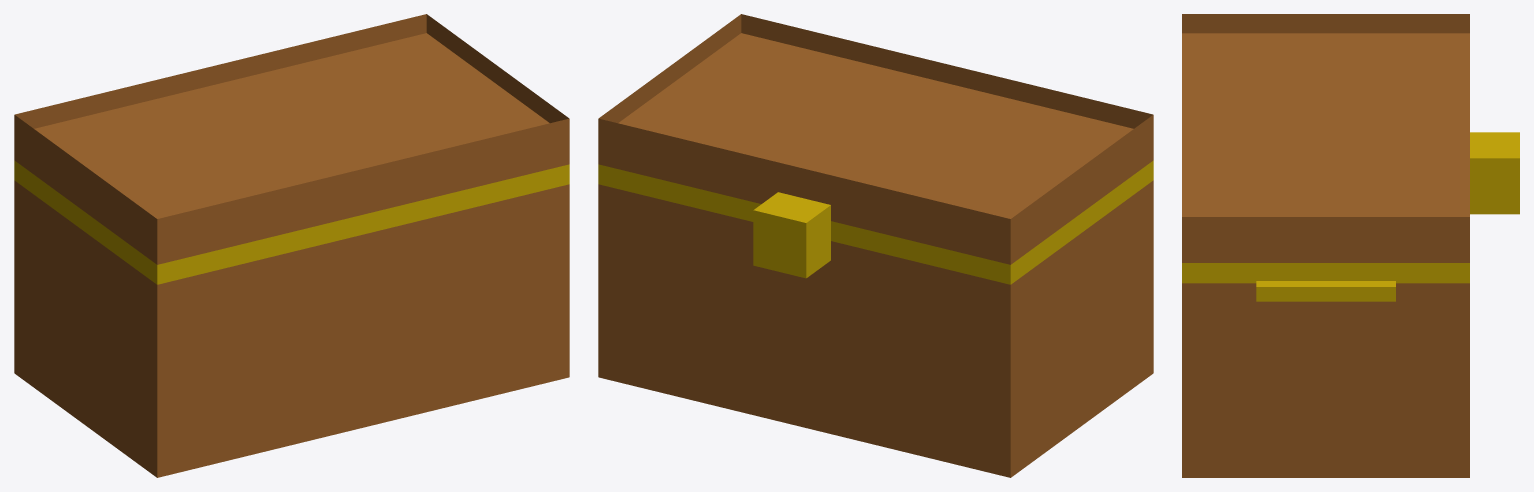
The model's file is chest.glb.
The picture shows the model from 3 angles, left to right: view 1: azimuth 30°, elevation 25°; view 2: azimuth 150°, elevation 25°; view 3: azimuth 270°, elevation 25°; orthographic projection.
Parts seen in each view (by area): view 1: Cube; view 2: Cube, Cube.001; view 3: Cube, Cube.001, Cube.002.
Part boxes in pixels (x1,y1,x2,y2): Cube: [14, 14, 569, 477]; Cube: [598, 14, 1153, 477]; Cube.001: [753, 192, 830, 278]; Cube: [1182, 14, 1469, 477]; Cube.001: [1470, 132, 1519, 214]; Cube.002: [1256, 281, 1395, 301].
Size of the model in its own units: 1.03 by 0.6 by 0.7038.
